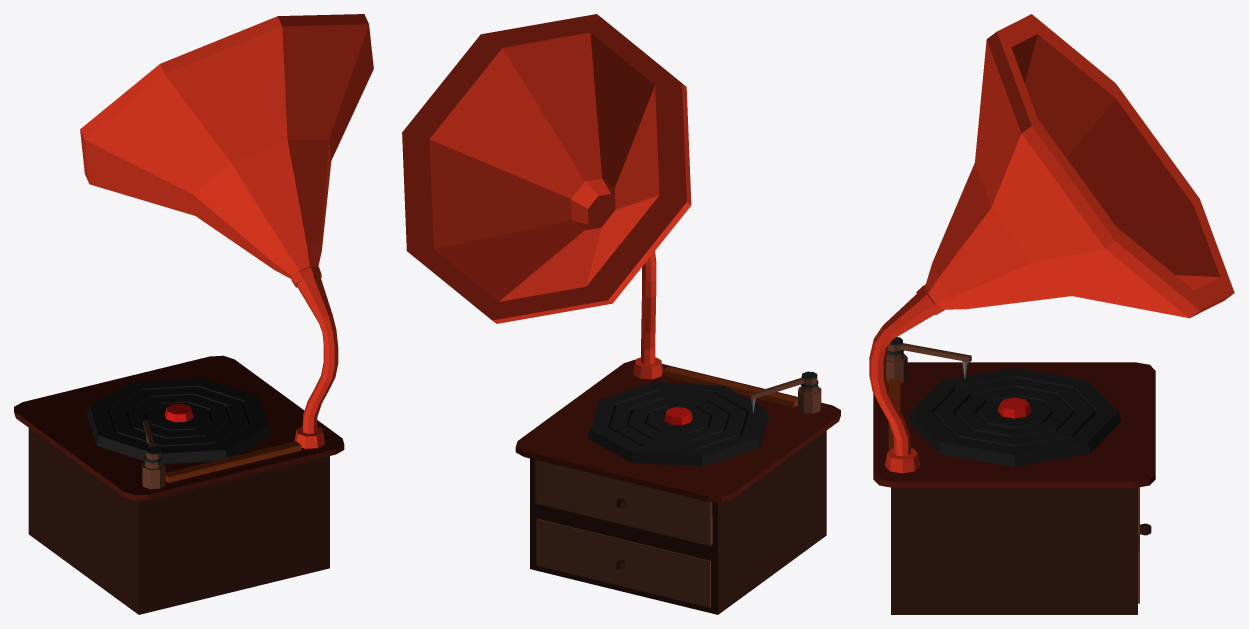
The model's file is Gramophone.fbx.
3 views of the same model, side by side, from view 1: azimuth 30°, elevation 25°; view 2: azimuth 150°, elevation 25°; view 3: azimuth 270°, elevation 25° (orthographic). The views are drawn at different scales.
Parts seen in each view (by area): view 1: Node 0; view 2: Node 0, Node 1, Node 2; view 3: Node 0.
Part boxes in pixels (x1=…): Node 0: x1=14, y1=14, x2=373, y2=614; Node 0: x1=402, y1=14, x2=840, y2=614; Node 1: x1=536, y1=518, x2=710, y2=607; Node 2: x1=536, y1=460, x2=712, y2=545; Node 0: x1=869, y1=14, x2=1234, y2=614.
Size of the model in its own units: 0.6185 by 1.08 by 0.7539.
